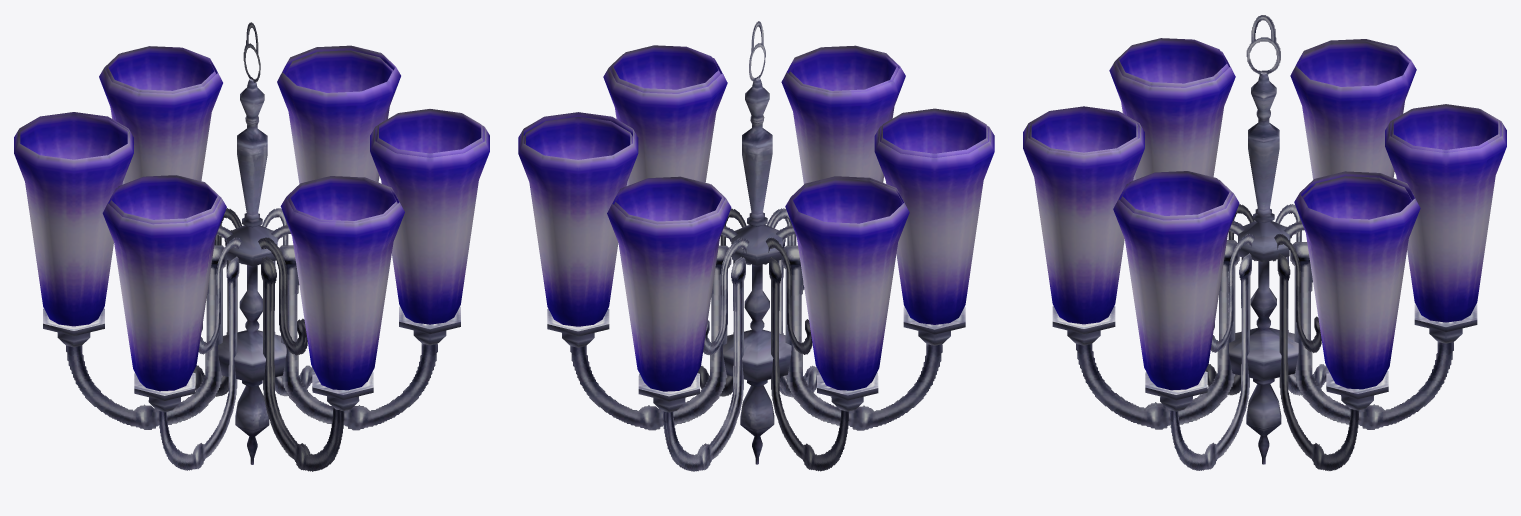
The model's file is furni_0201102.FBX.
3 views of the same model, side by side, from view 1: azimuth 30°, elevation 25°; view 2: azimuth 150°, elevation 25°; view 3: azimuth 270°, elevation 25° (orthographic).
Visible parts, largest first — view 1: furni_0201102; view 2: furni_0201102; view 3: furni_0201102.
Part boxes in pixels (bbox=[...]): furni_0201102: bbox=[14, 22, 489, 471]; furni_0201102: bbox=[518, 21, 994, 471]; furni_0201102: bbox=[1023, 15, 1506, 470].
Size of the model in its own units: 71.93 by 81.01 by 78.96.
Materials: 1 (1 with a texture image).
